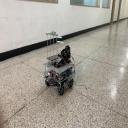cart: (43, 58, 75, 96)
